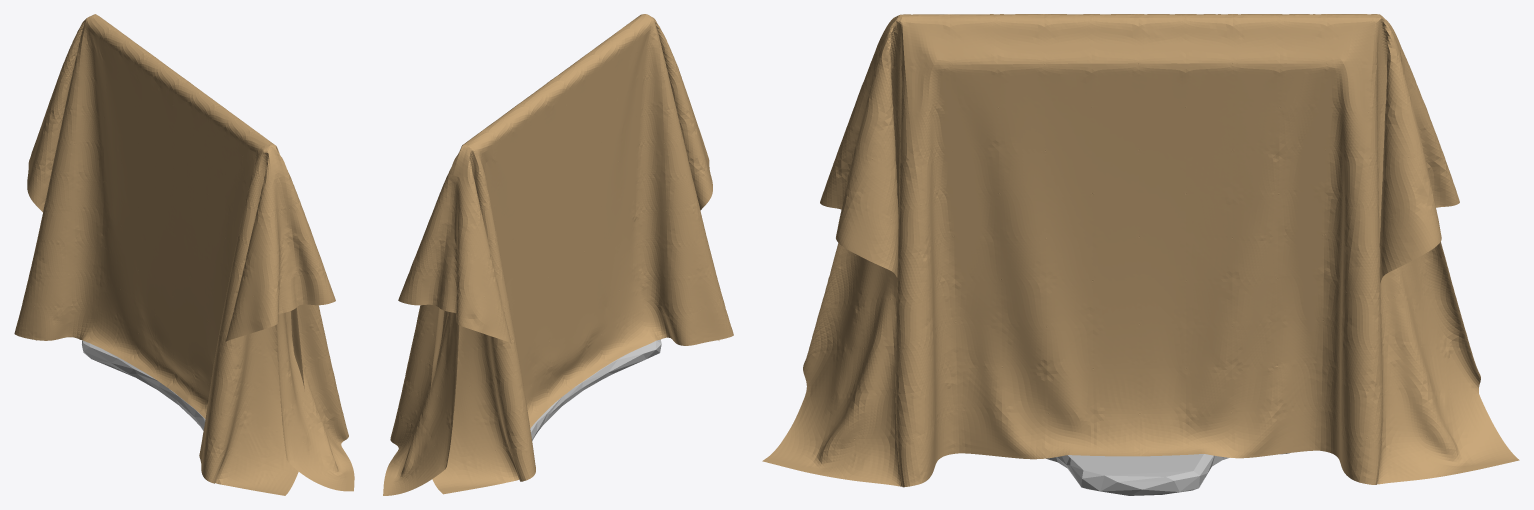
The model's file is level_4.glb.
3 views of the same model, side by side, from view 1: azimuth 30°, elevation 25°; view 2: azimuth 150°, elevation 25°; view 3: azimuth 270°, elevation 25° (orthographic). The views are drawn at different scales.
Visible parts, largest first — view 1: world, object.obj; view 2: world, object.obj; view 3: world, object.obj.
Part boxes in pixels (x1,y1,x2,y2): world: (14, 14, 354, 495); object.obj: (82, 340, 205, 430); world: (383, 14, 733, 495); object.obj: (530, 339, 661, 440); world: (762, 14, 1519, 487); object.obj: (1046, 453, 1289, 495).
Size of the model in its own units: 0.1589 by 0.2906 by 0.4691.
